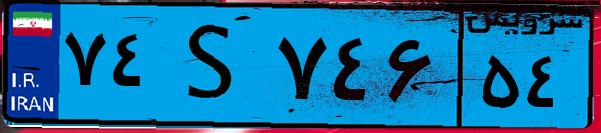4: (330, 28, 385, 110), (525, 38, 570, 115), (110, 28, 158, 98)
5: (475, 38, 525, 113)
6: (385, 28, 445, 110)
7: (270, 28, 330, 110), (57, 26, 110, 100)
S: (158, 12, 270, 120)
